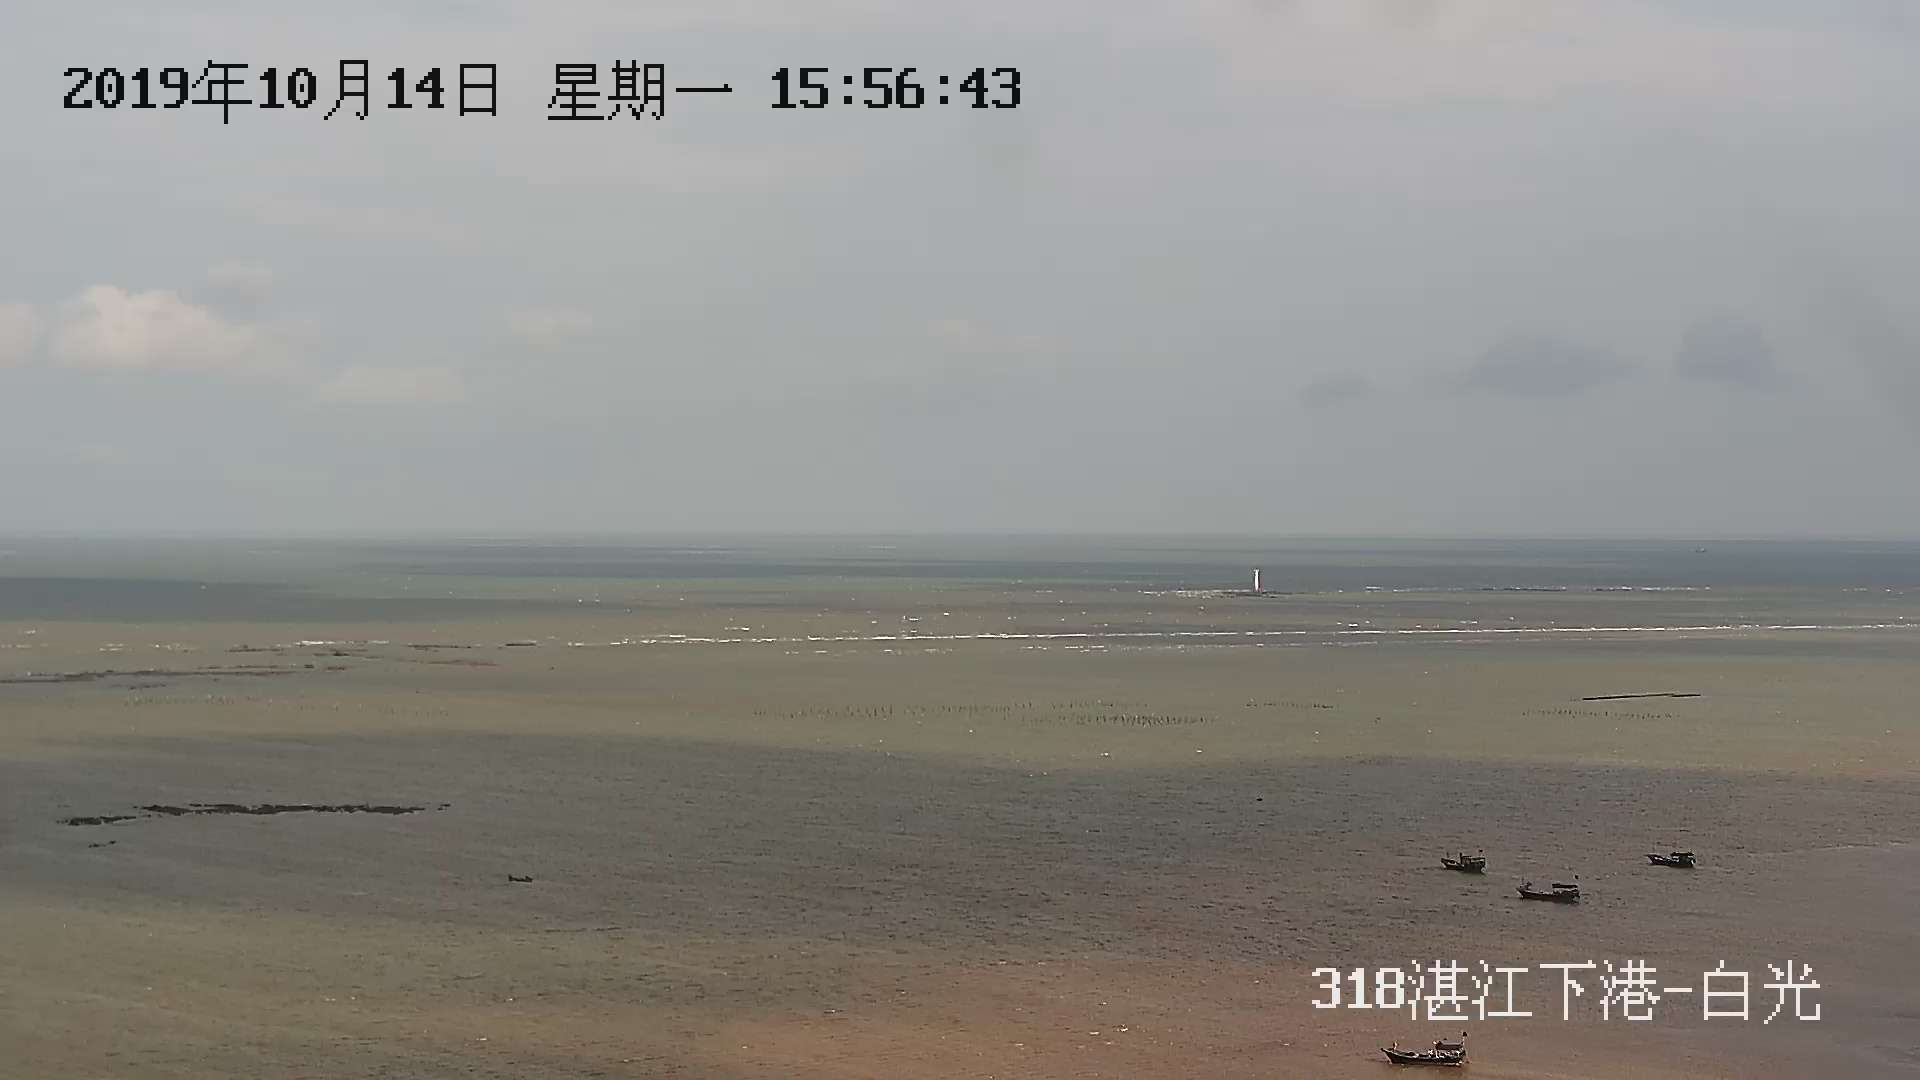ship: (1379, 1033, 1468, 1067), (1516, 880, 1582, 905), (1440, 848, 1489, 874), (1644, 847, 1695, 866)
